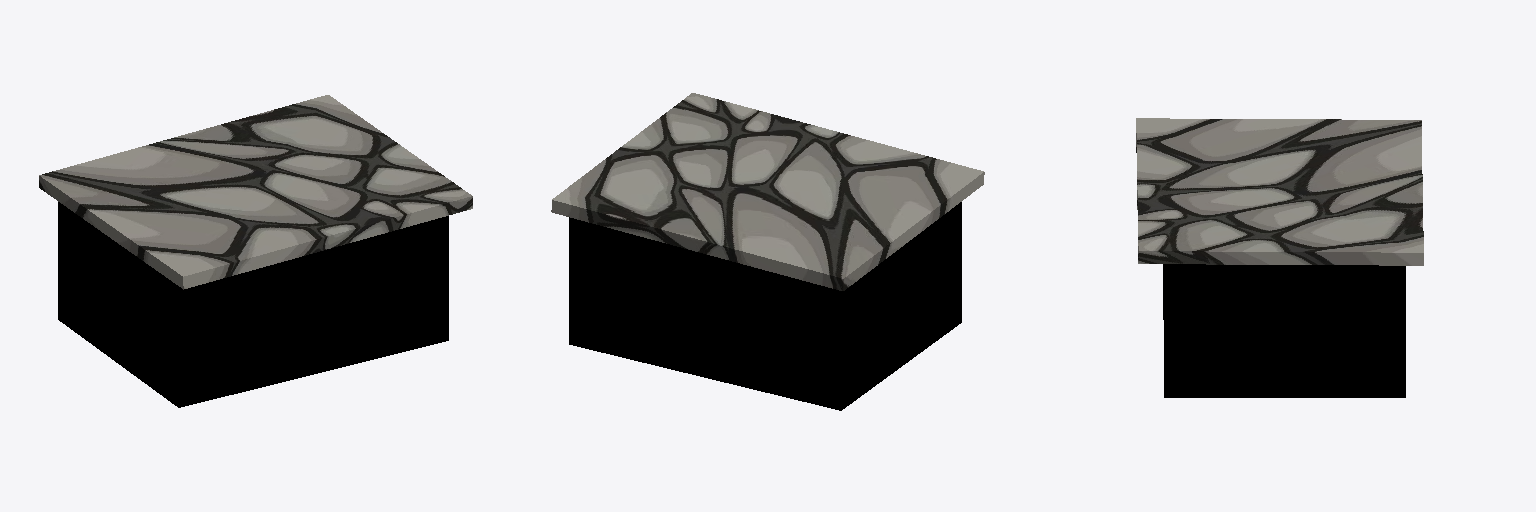
3 renders of one model, left to right at view 1: azimuth 30°, elevation 25°; view 2: azimuth 150°, elevation 25°; view 3: azimuth 270°, elevation 25°, orthographic.
Parts seen in each view (by area): view 1: group pasted__polySurface9 pasted__pCube4, pasted__pCube5 group; view 2: group pasted__polySurface9 pasted__pCube4, pasted__pCube5 group; view 3: pasted__pCube5 group, group pasted__polySurface9 pasted__pCube4.
Part boxes in pixels (x1,y1,x2,y2): group pasted__polySurface9 pasted__pCube4: (58, 202, 448, 407); pasted__pCube5 group: (39, 95, 472, 289); group pasted__polySurface9 pasted__pCube4: (569, 202, 961, 410); pasted__pCube5 group: (551, 93, 984, 290); pasted__pCube5 group: (1136, 118, 1423, 265); group pasted__polySurface9 pasted__pCube4: (1163, 264, 1405, 397).
Bounding box in the file's own units: 6.39 × 3.18 × 5.44.
2 materials, 1 textured.